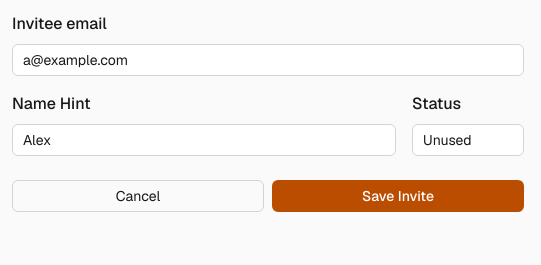
Test: pool components › should show InviteForm API errors
Click the button "Save Invite". click: (398, 196)
box: top-left (272, 180), bottom-right (524, 212)
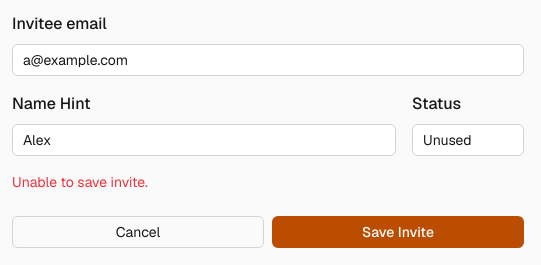
Expected: the message reads "Unable to save invite.", top-left (12, 173), bottom-right (148, 191)
